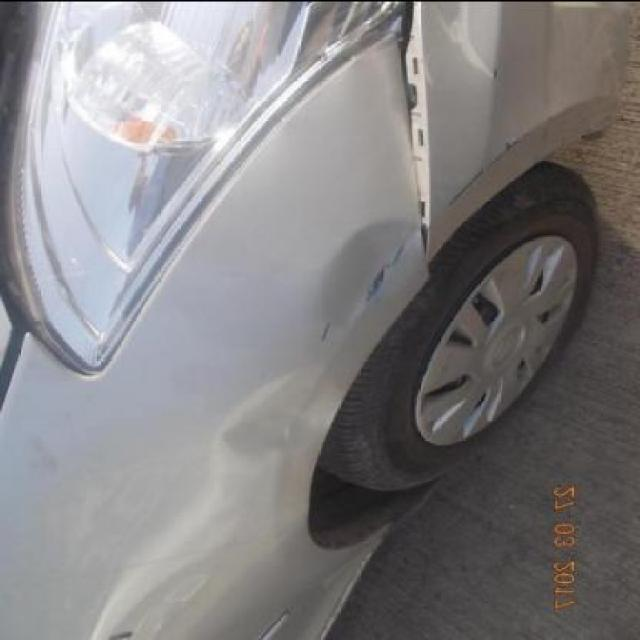damage: (310, 215, 435, 356), (394, 0, 443, 256), (217, 372, 342, 465), (447, 118, 554, 215), (350, 234, 417, 324), (316, 316, 333, 342)
